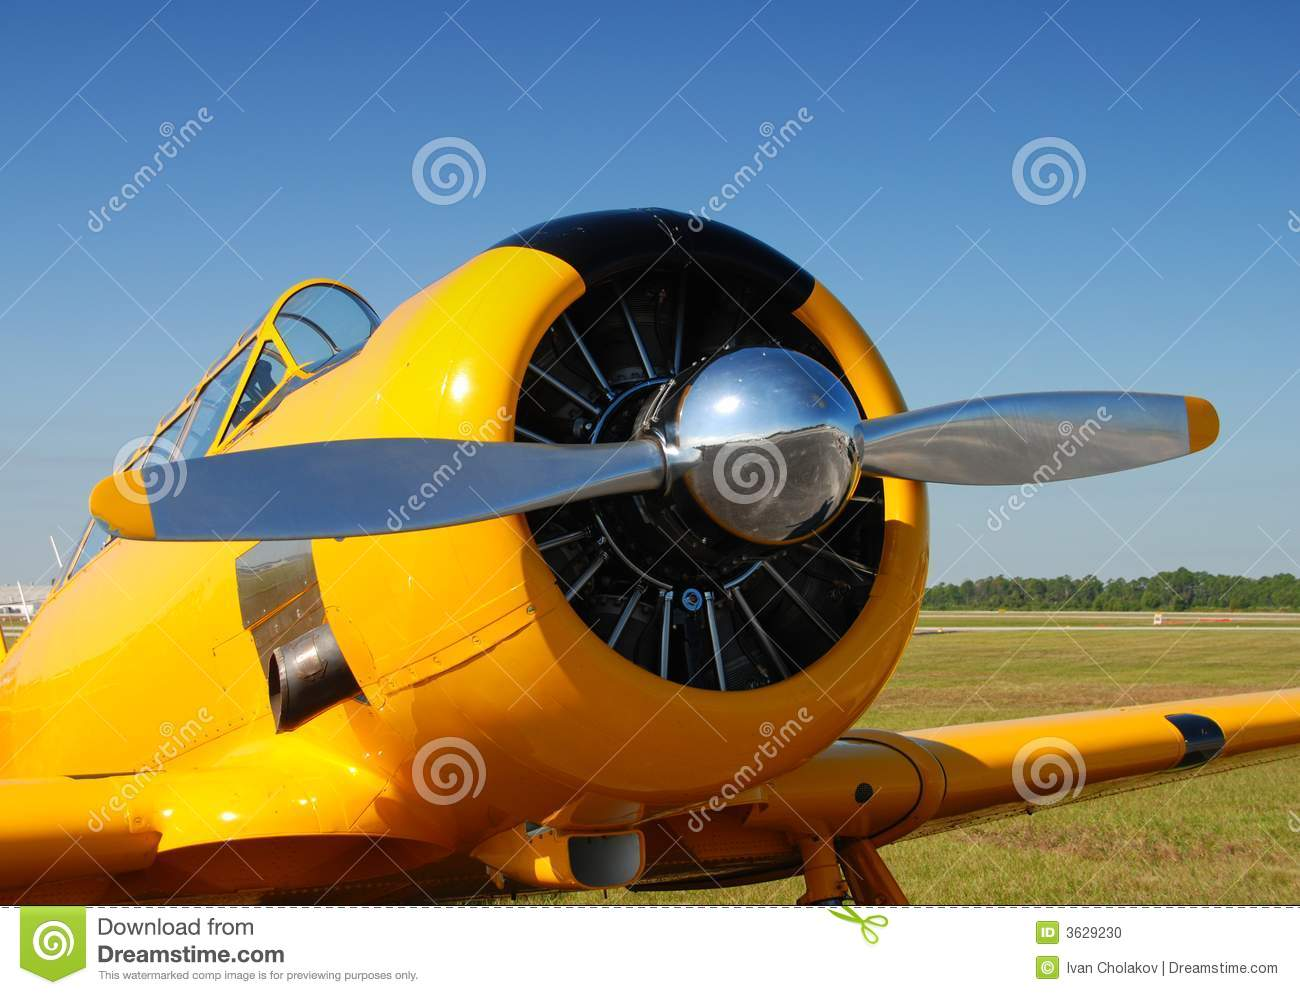Propeller: (77, 345, 1234, 564)
